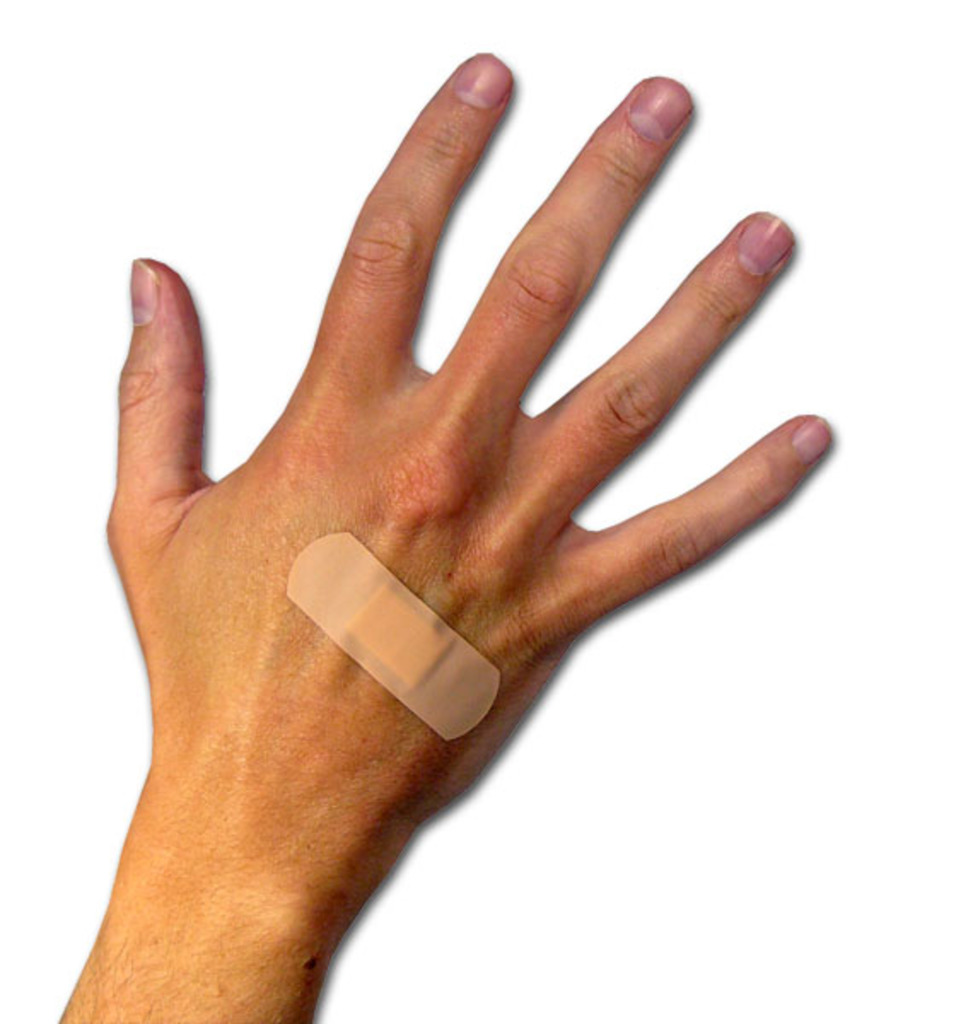Human_hand: (104, 52, 830, 845)
